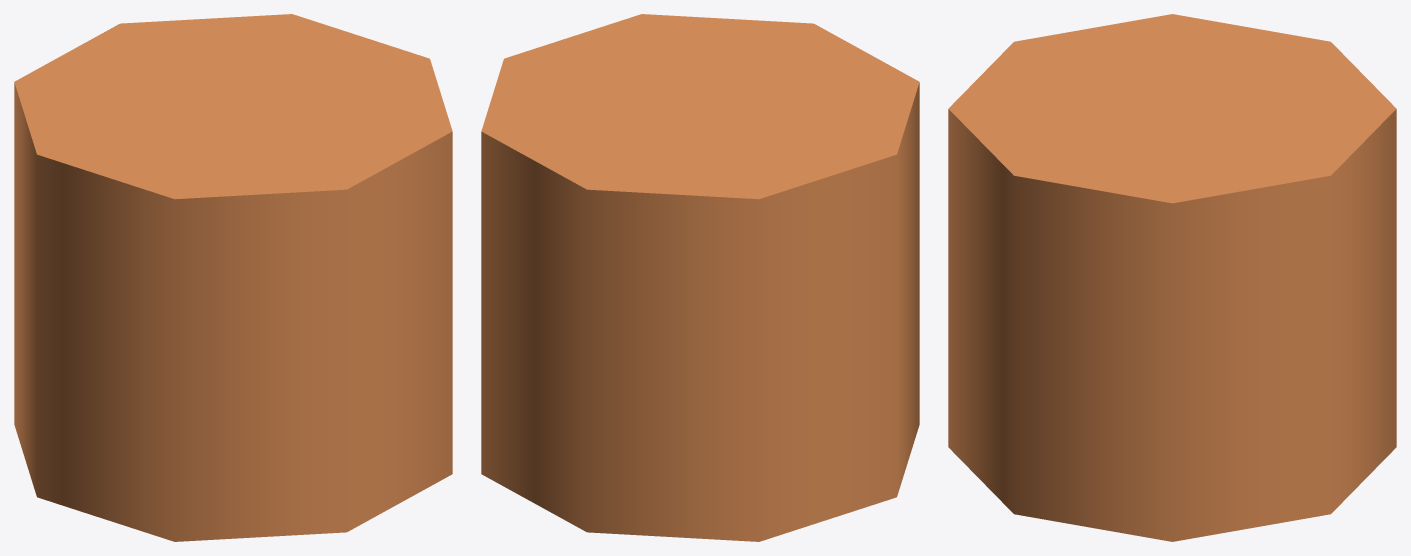
The model's file is campfire_01.glb.
3 views of the same model, side by side, from view 1: azimuth 30°, elevation 25°; view 2: azimuth 150°, elevation 25°; view 3: azimuth 270°, elevation 25° (orthographic).
Parts seen in each view (by area): view 1: campfire; view 2: campfire; view 3: campfire.
Part boxes in pixels (left/top/right/bottom): campfire: left=14, top=14, right=452, bottom=541; campfire: left=481, top=14, right=919, bottom=541; campfire: left=948, top=14, right=1396, bottom=541.
Bounding box in the file's own units: 1.2 × 1 × 1.2.
